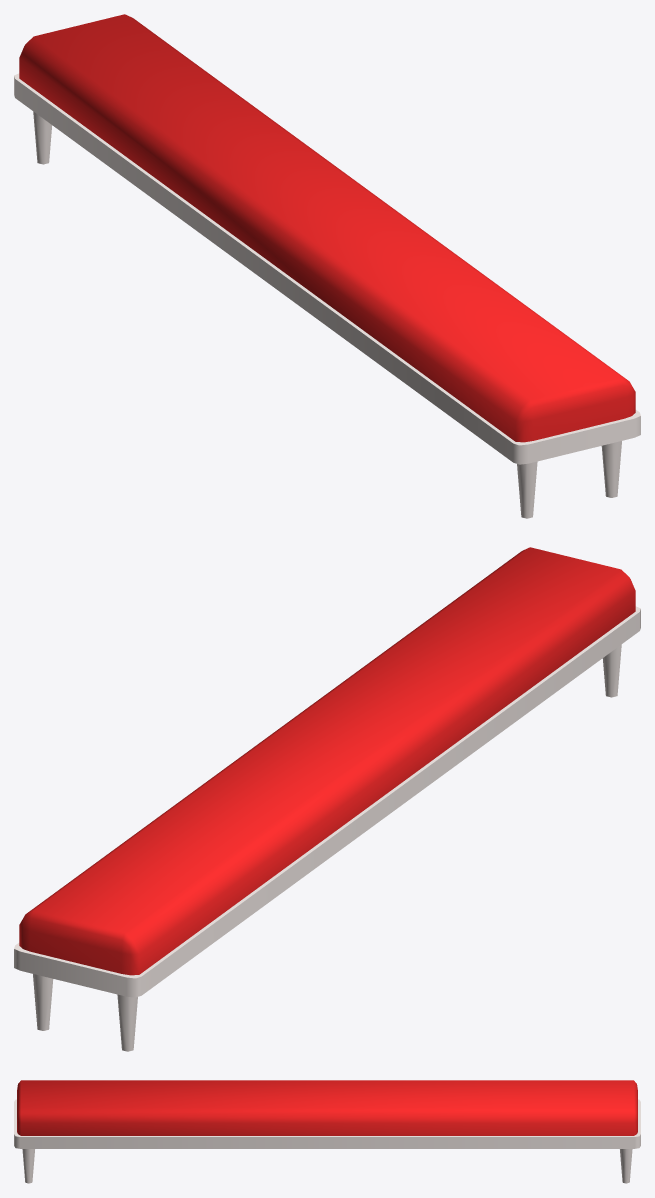
Rendered from ghe doc sach.FBX.
The picture shows the model from 3 angles, top to bottom: view 1: azimuth 30°, elevation 25°; view 2: azimuth 150°, elevation 25°; view 3: azimuth 270°, elevation 25°; orthographic projection. The views are drawn at different scales.
Visible parts, largest first — view 1: Box1918; view 2: Box1918; view 3: Box1918.
Boxes of the visible parts, <box> form: Box1918: <box>14,14,640,518</box>; Box1918: <box>14,547,640,1051</box>; Box1918: <box>14,1080,640,1183</box>.
Bounding box in the file's own units: 1.4 × 1.29 × 9.74.
